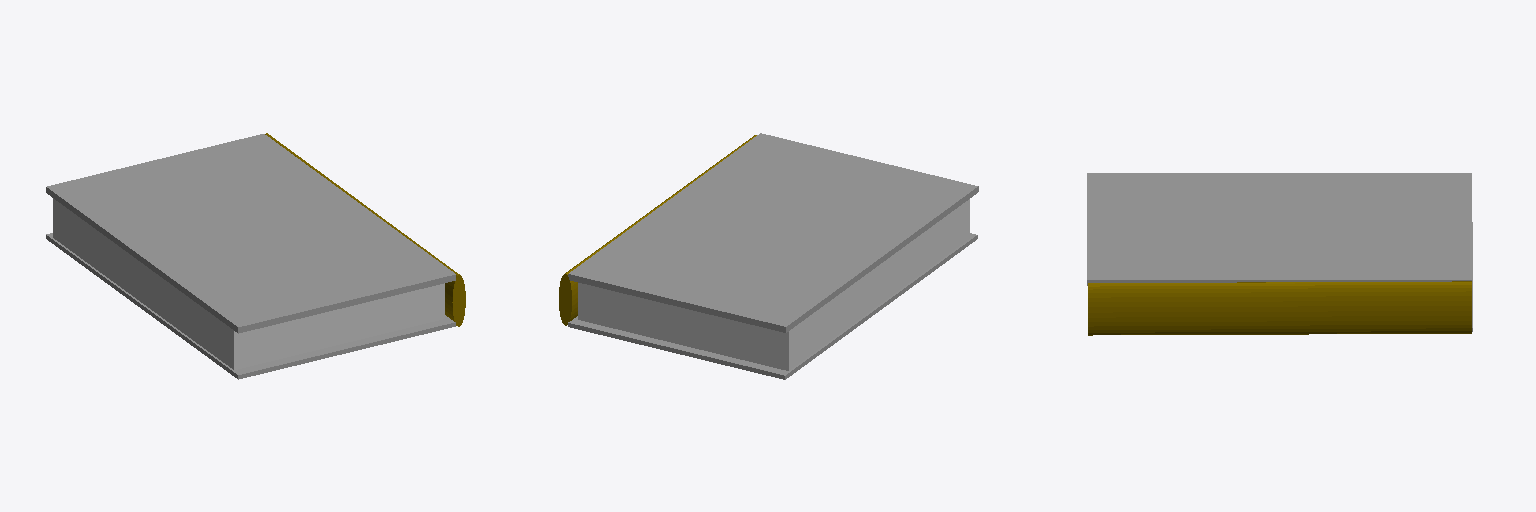
File: i_am_malala_book.obj
3 renders of one model, left to right at view 1: azimuth 30°, elevation 25°; view 2: azimuth 150°, elevation 25°; view 3: azimuth 270°, elevation 25°, orthographic.
Visible parts, largest first — view 1: Cube_Cube.003, Cube.002, Cube.001, Cylinder; view 2: Cube_Cube.003, Cube.002, Cube.001, Cylinder; view 3: Cube_Cube.003, Cylinder.
Part boxes in pixels (x1,y1,x2,y2): Cube_Cube.003: (46,134,455,333); Cube.002: (53,198,444,369); Cube.001: (46,233,455,379); Cylinder: (265,133,465,326); Cube_Cube.003: (568,133,978,332); Cube.002: (578,199,969,370); Cube.001: (568,233,977,379); Cylinder: (559,135,756,325); Cube_Cube.003: (1087,173,1471,285); Cylinder: (1088,281,1471,335).
Size of the model in its own units: 3.57 by 0.8066 by 5.23.